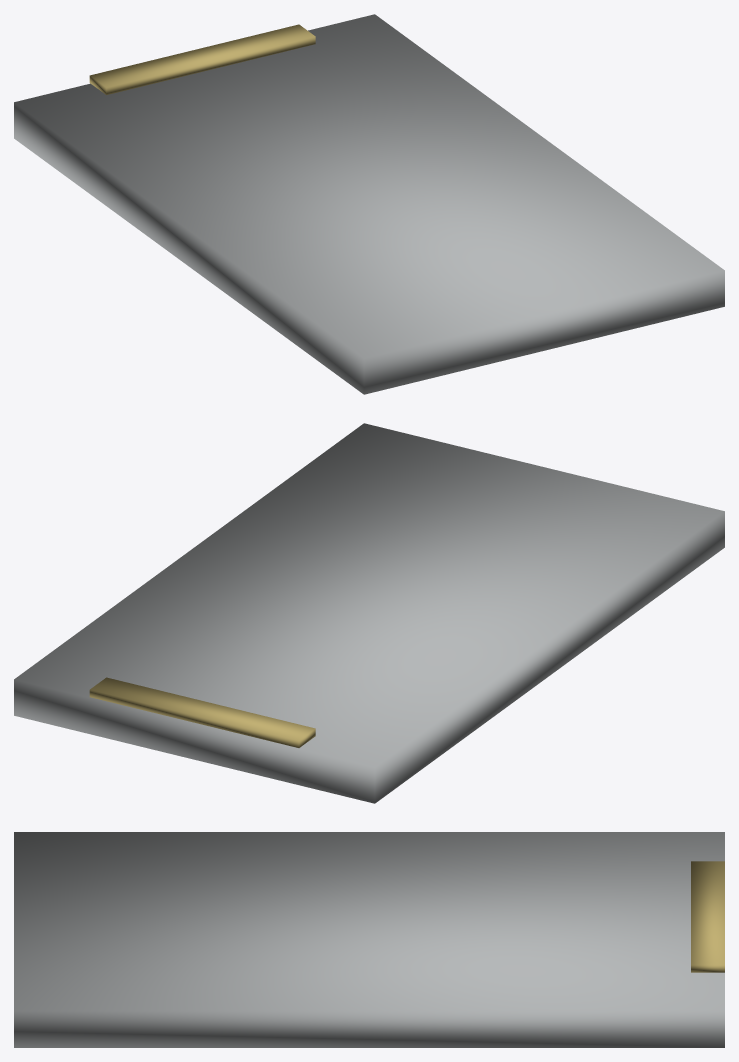
File: floor_w125_d210_open.glb
3 views of the same model, one above another, from view 1: azimuth 30°, elevation 25°; view 2: azimuth 150°, elevation 25°; view 3: azimuth 270°, elevation 25° (orthographic).
Parts seen in each view (by area): view 1: world; view 2: world; view 3: world.
Part boxes in pixels (x1,y1,x2,y2): world: (14,14,724,394); world: (14,423,724,803); world: (14,832,724,1047).
Bounding box in the file's own units: 1.25 × 0.1475 × 2.1.
